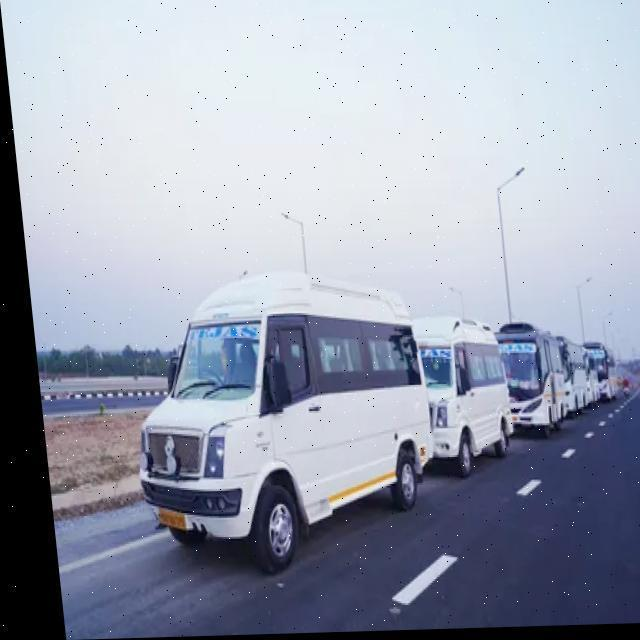Ambulance: (106, 253, 631, 580), (33, 381, 640, 638), (400, 314, 510, 483), (484, 320, 564, 445)
